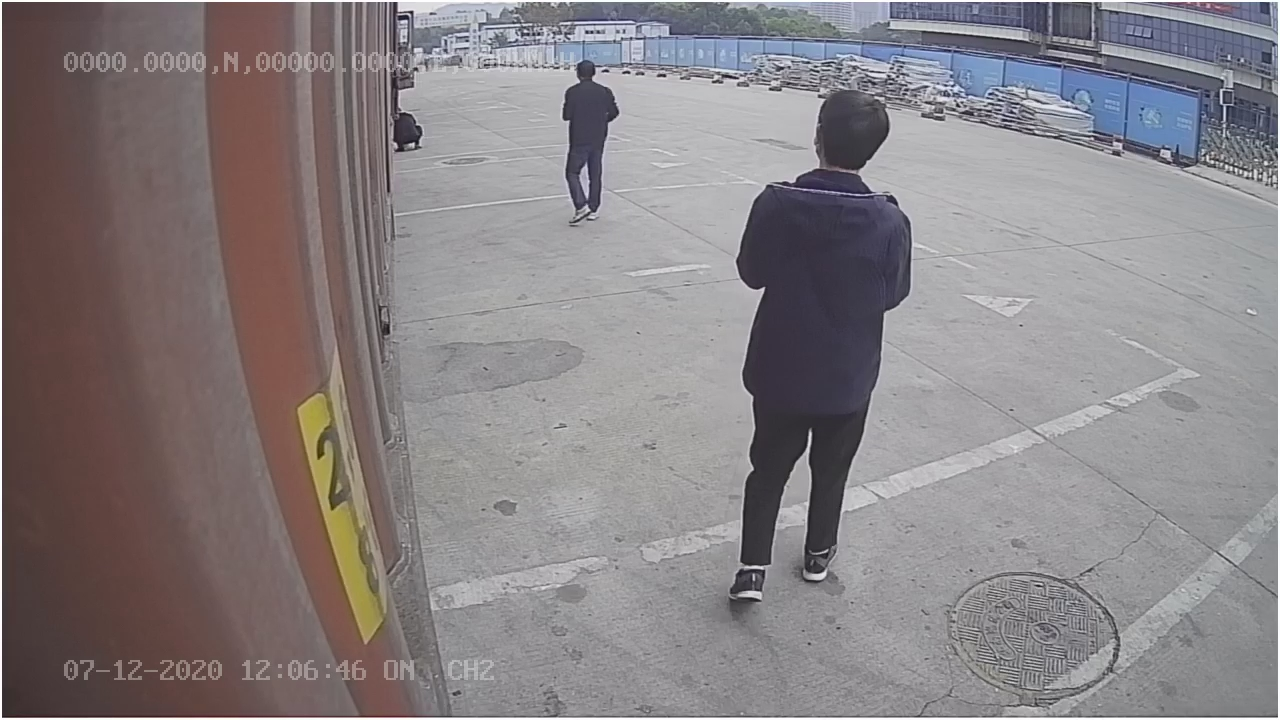person: (725, 76, 913, 610)
